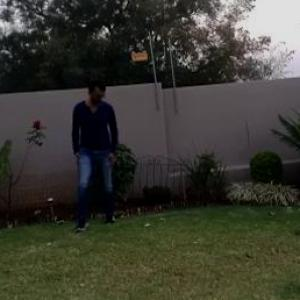follow: (62, 70, 115, 238)
